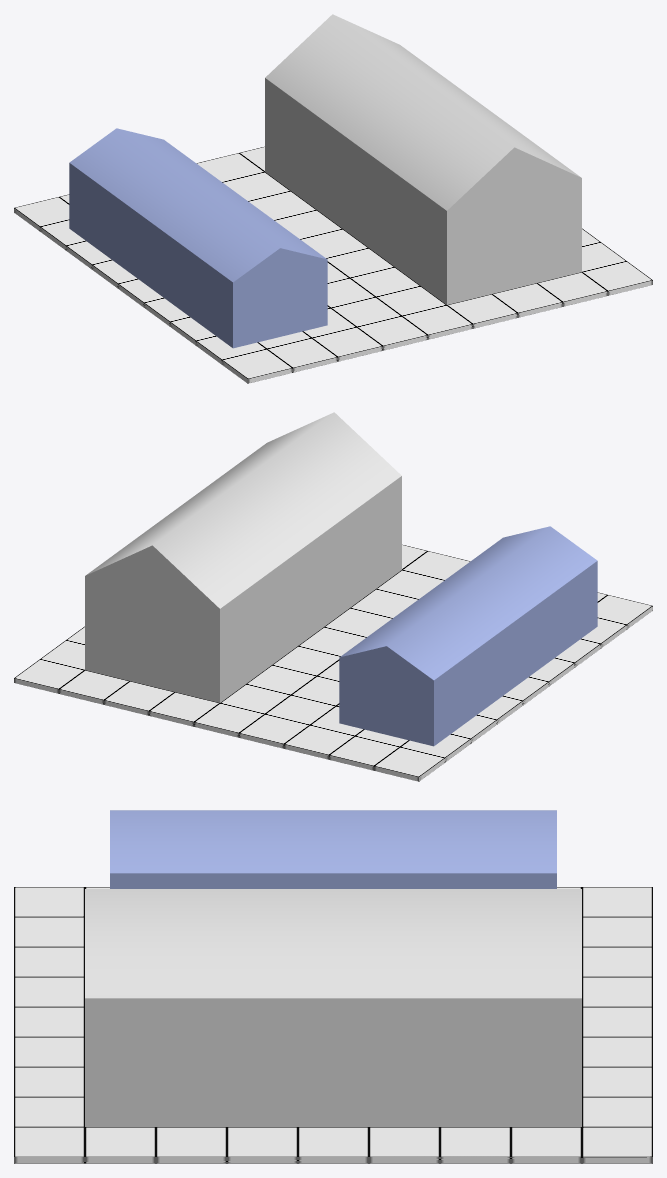
The model's file is XG_Caregiver.glb.
The picture shows the model from 3 angles, top to bottom: view 1: azimuth 30°, elevation 25°; view 2: azimuth 150°, elevation 25°; view 3: azimuth 270°, elevation 25°; orthographic projection. The views are drawn at different scales.
Visible parts, largest first — view 1: Box846, building_9m_3m_049, ground_9_x_9_033; view 2: Box846, building_9m_3m_049, ground_9_x_9_033; view 3: Box846, ground_9_x_9_033, building_9m_3m_049.
Part boxes in pixels (left/top/right/bottom): Box846: left=265, top=14, right=581, bottom=304; building_9m_3m_049: left=69, top=128, right=327, bottom=348; ground_9_x_9_033: left=14, top=146, right=652, bottom=383; Box846: left=85, top=412, right=401, bottom=702; building_9m_3m_049: left=339, top=526, right=597, bottom=746; ground_9_x_9_033: left=14, top=544, right=652, bottom=781; Box846: left=85, top=889, right=581, bottom=1126; ground_9_x_9_033: left=14, top=887, right=652, bottom=1163; building_9m_3m_049: left=110, top=810, right=556, bottom=888.
Size of the model in its own units: 9 by 3.1 by 9.
Materials: 2 (1 with a texture image).
